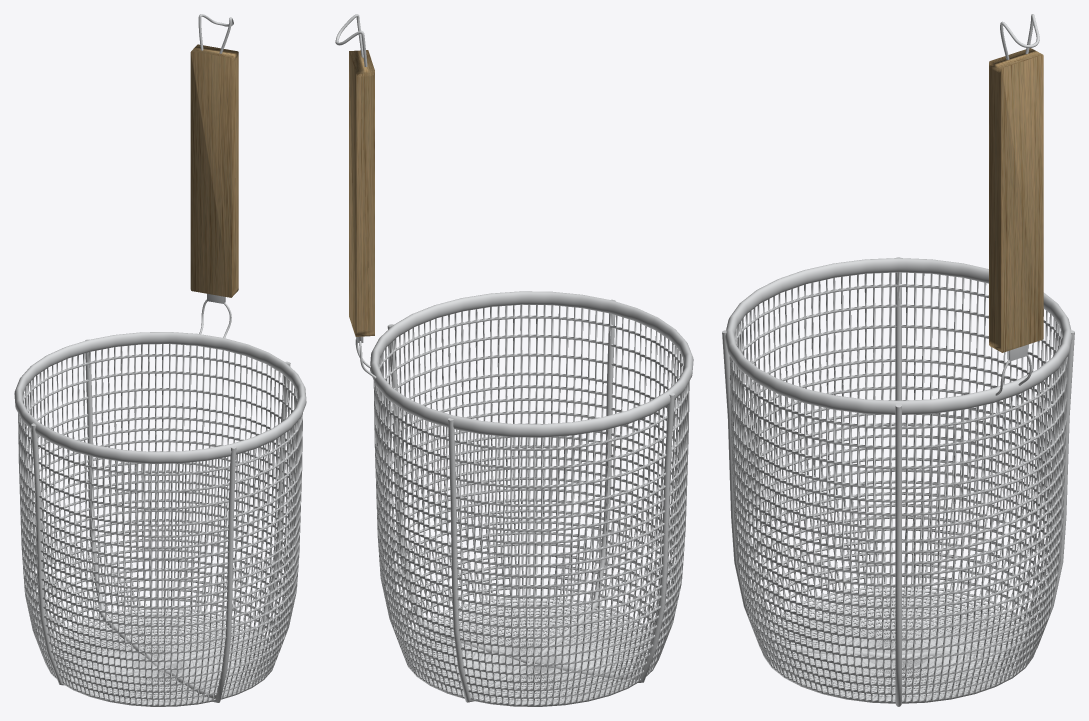
Rendered from yugiri.fbx.
3 views of the same model, side by side, from view 1: azimuth 30°, elevation 25°; view 2: azimuth 150°, elevation 25°; view 3: azimuth 270°, elevation 25° (orthographic). The views are drawn at different scales.
Visible parts, largest first — view 1: カゴ, 取っ手, カゴの上のやつ, カゴの周りのやつ; view 2: カゴ, カゴの上のやつ, カゴの周りのやつ, 取っ手; view 3: カゴ, 取っ手, カゴの上のやつ, カゴの周りのやつ.
Boxes of the visible parts, x1,y1,x2,y2 form: カゴ: (18, 344, 302, 706); 取っ手: (190, 44, 238, 303); カゴの上のやつ: (14, 332, 306, 463); カゴの周りのやつ: (31, 339, 290, 702); カゴ: (373, 304, 689, 706); カゴの上のやつ: (370, 291, 693, 437); カゴの周りのやつ: (387, 299, 674, 702); 取っ手: (349, 50, 374, 342); カゴ: (729, 272, 1067, 703); 取っ手: (989, 48, 1043, 361); カゴの上のやつ: (725, 258, 1072, 414); カゴの周りのやつ: (722, 257, 1074, 706).
Bounding box in the file's own units: 216 × 475 × 215.
